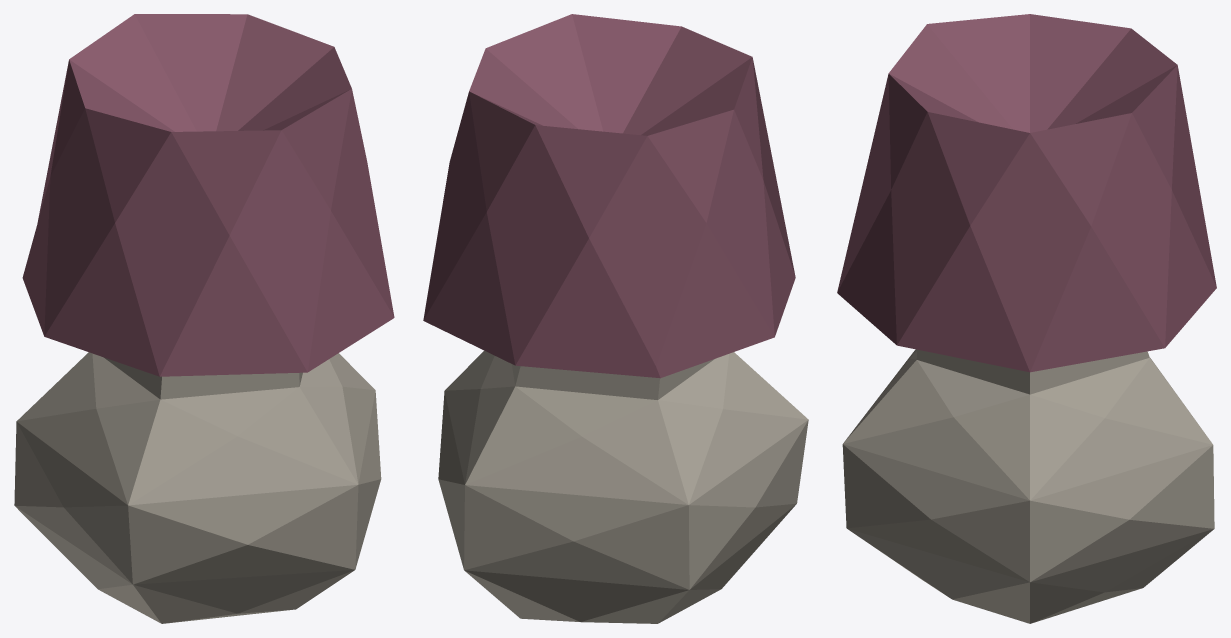
File: bedroom_lamp.fbx
The picture shows the model from 3 angles, left to right: view 1: azimuth 30°, elevation 25°; view 2: azimuth 150°, elevation 25°; view 3: azimuth 270°, elevation 25°; orthographic projection.
Visible parts, largest first — view 1: bedroom_lamp; view 2: bedroom_lamp; view 3: bedroom_lamp.
Boxes of the visible parts, left/top/right/bottom form: bedroom_lamp: left=14, top=14, right=394, bottom=623; bedroom_lamp: left=423, top=14, right=808, bottom=623; bedroom_lamp: left=837, top=14, right=1216, bottom=623.
Size of the model in its own units: 25.67 by 38 by 25.73.
